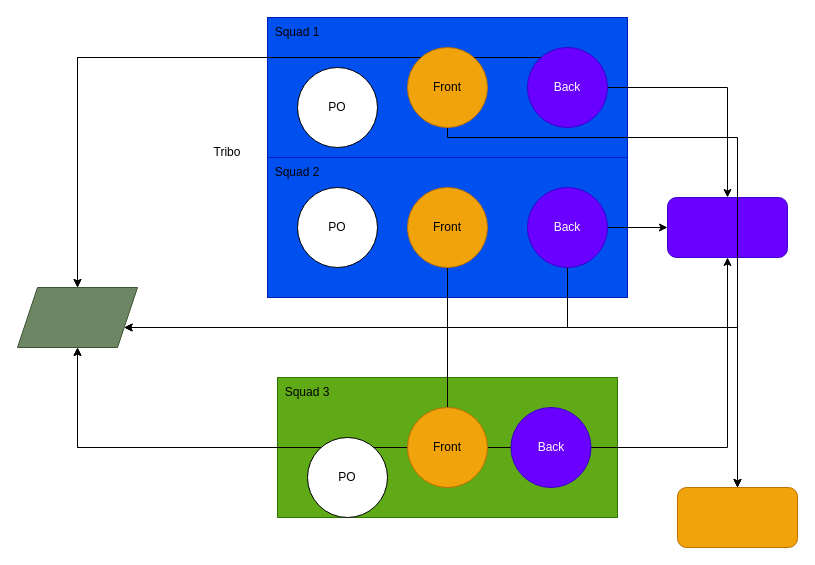
The diagram is 815 pixels wide and 565 high, and some of its shapes have lost their labels. The shapes that lost their labels are listed below. From the top down, each one's centre as x and y in pixels, then its label:
the point at 727,227: Chapter Back
the point at 77,317: Guild
the point at 737,517: Chapter Front
